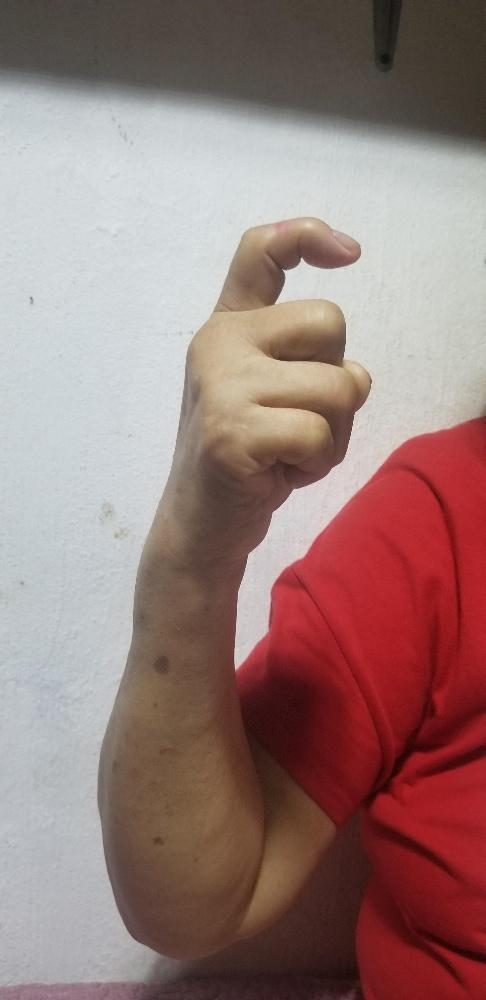x: (181, 214, 374, 523)
